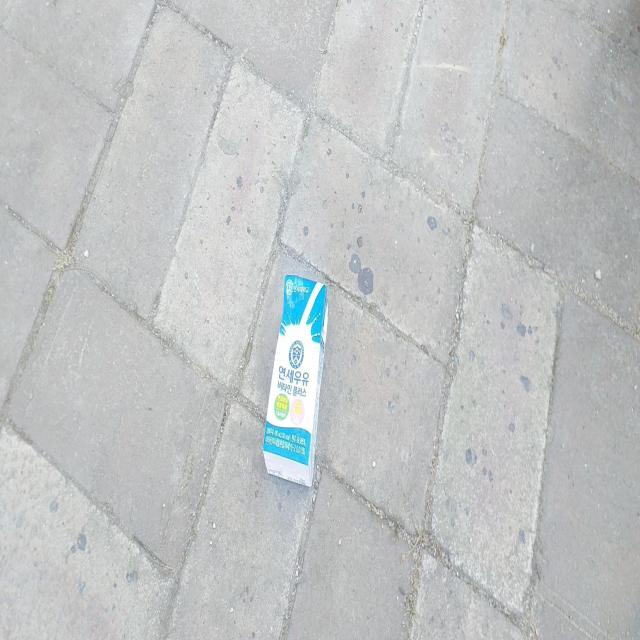paperpack: (263, 273, 328, 486)
